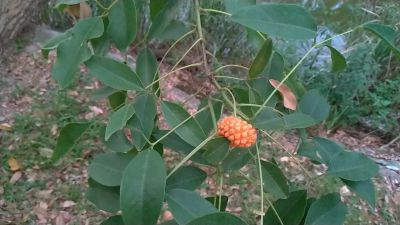eggs: (218, 114, 258, 146)
